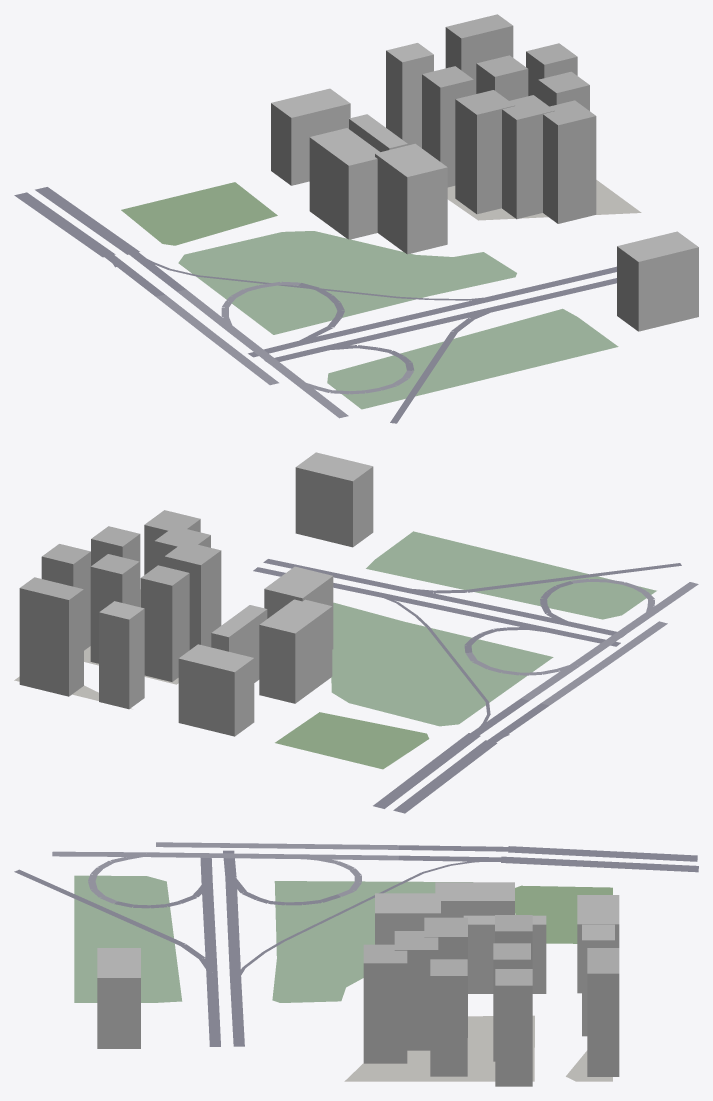
Rendered from 120_87_mid.glb.
3 renders of one model, top to bottom at view 1: azimuth 30°, elevation 25°; view 2: azimuth 150°, elevation 25°; view 3: azimuth 270°, elevation 25°, orthographic. The views are drawn at different scales.
Size of the model in its own units: 517 by 106 by 636.
